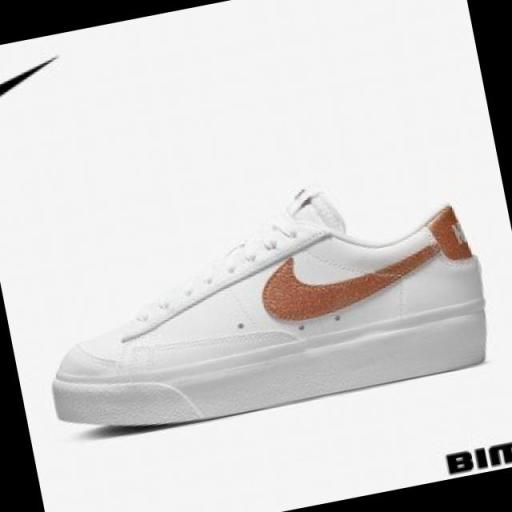Nike: (0, 42, 74, 109)
